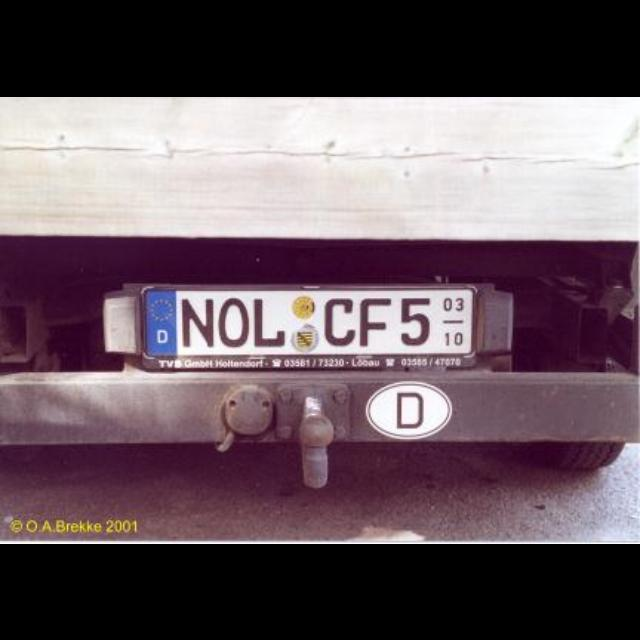license-plates: (141, 286, 487, 370)
